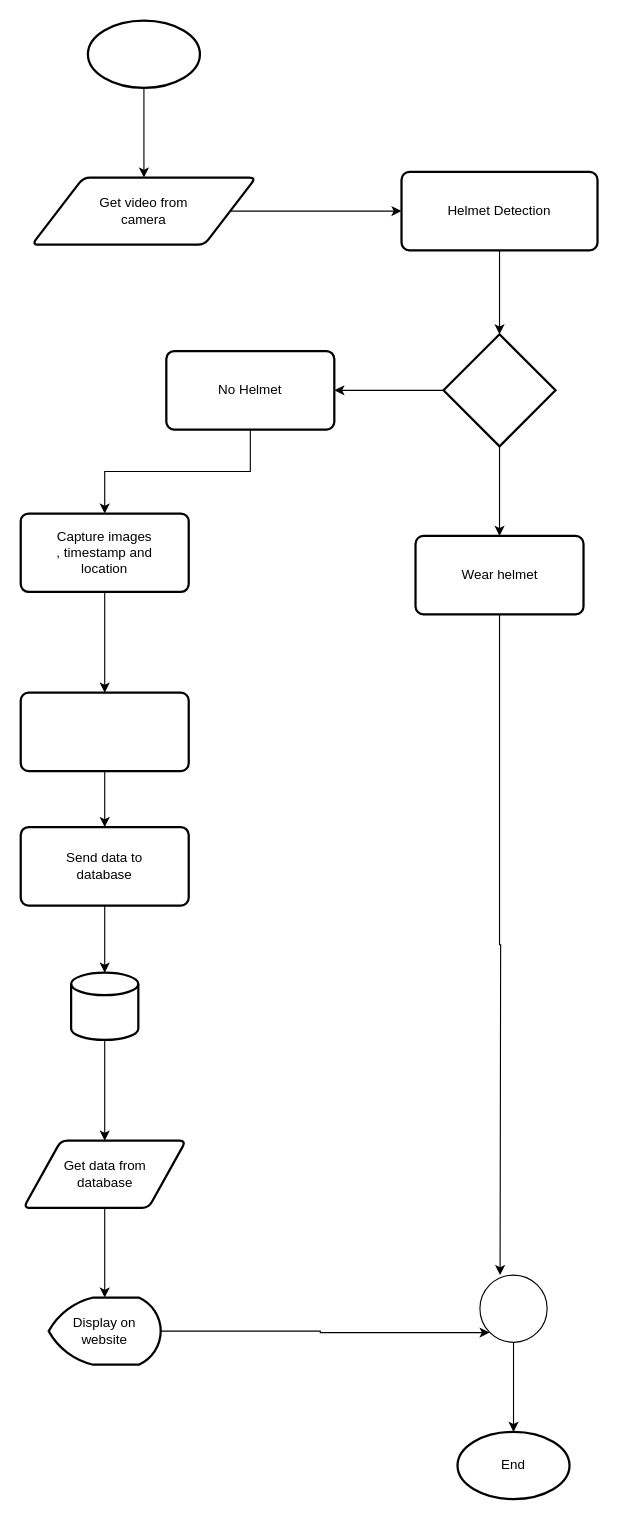
Image size: 617x1519. Some labels were removed from this diagram. Each missing label, with the centre of its shape:
Condition checking: the point at 499,390
Convert images to binary: the point at 104,731
Start: the point at 143,53
Store data: the point at 104,1005
